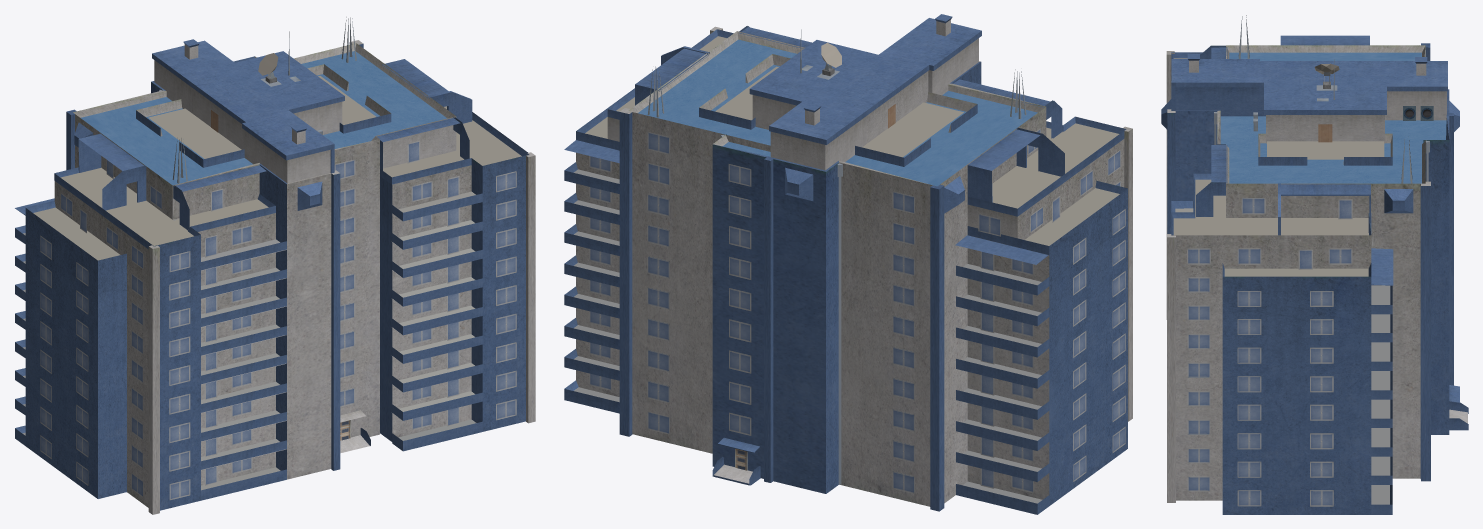
Rendered from ORB_3_S9_Detail_2.fbx.
3 views of the same model, side by side, from view 1: azimuth 30°, elevation 25°; view 2: azimuth 150°, elevation 25°; view 3: azimuth 270°, elevation 25° (orthographic). The views are drawn at different scales.
Parts seen in each view (by area): view 1: ORB_3_S9_Detail_2; view 2: ORB_3_S9_Detail_2; view 3: ORB_3_S9_Detail_2.
Part boxes in pixels (<box>): ORB_3_S9_Detail_2: <box>15,17,535,514</box>; ORB_3_S9_Detail_2: <box>564,14,1132,514</box>; ORB_3_S9_Detail_2: <box>1161,15,1468,514</box>.
Size of the model in its own units: 4288 by 3456 by 2604.
